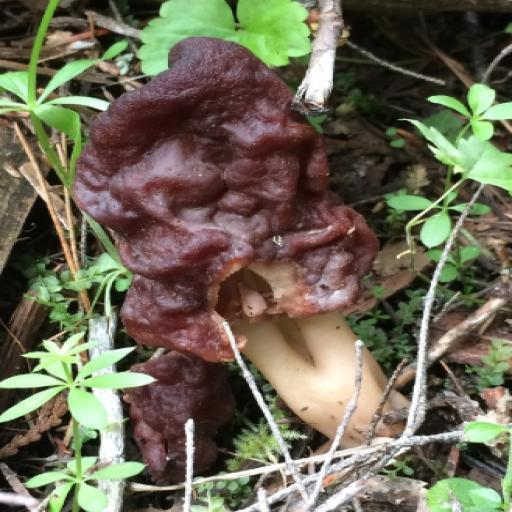mushroom: (37, 6, 468, 508)
